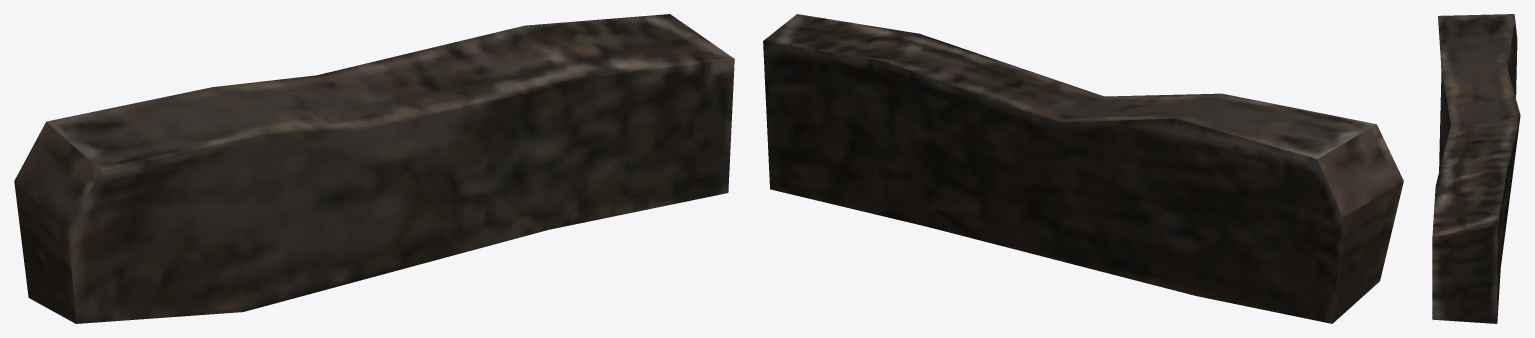
The model's file is dwarven_beam_02.fbx.
3 views of the same model, side by side, from view 1: azimuth 30°, elevation 25°; view 2: azimuth 150°, elevation 25°; view 3: azimuth 270°, elevation 25° (orthographic). The views are drawn at different scales.
Parts seen in each view (by area): view 1: dwarven_beam02; view 2: dwarven_beam02; view 3: dwarven_beam02.
Part boxes in pixels (x1,y1,x2,y2): dwarven_beam02: (14, 14, 734, 323); dwarven_beam02: (763, 14, 1403, 323); dwarven_beam02: (1432, 14, 1520, 323).
Bounding box in the file's own units: 1.56 × 0.4269 × 0.2807.
